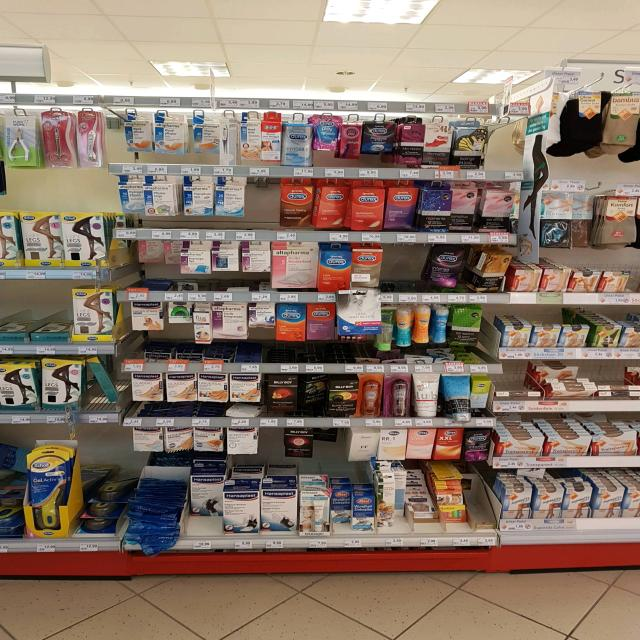unorganised: (128, 427, 225, 454), (1, 357, 41, 412), (83, 355, 119, 409), (468, 249, 513, 292), (1, 312, 70, 340), (427, 245, 467, 289), (313, 182, 348, 232), (120, 108, 153, 154), (444, 374, 474, 421), (190, 476, 224, 516), (543, 374, 597, 399), (573, 193, 595, 247), (346, 427, 380, 461), (451, 187, 479, 228), (300, 373, 329, 412), (137, 241, 181, 265), (597, 381, 640, 401), (330, 491, 353, 525), (314, 426, 339, 447)
